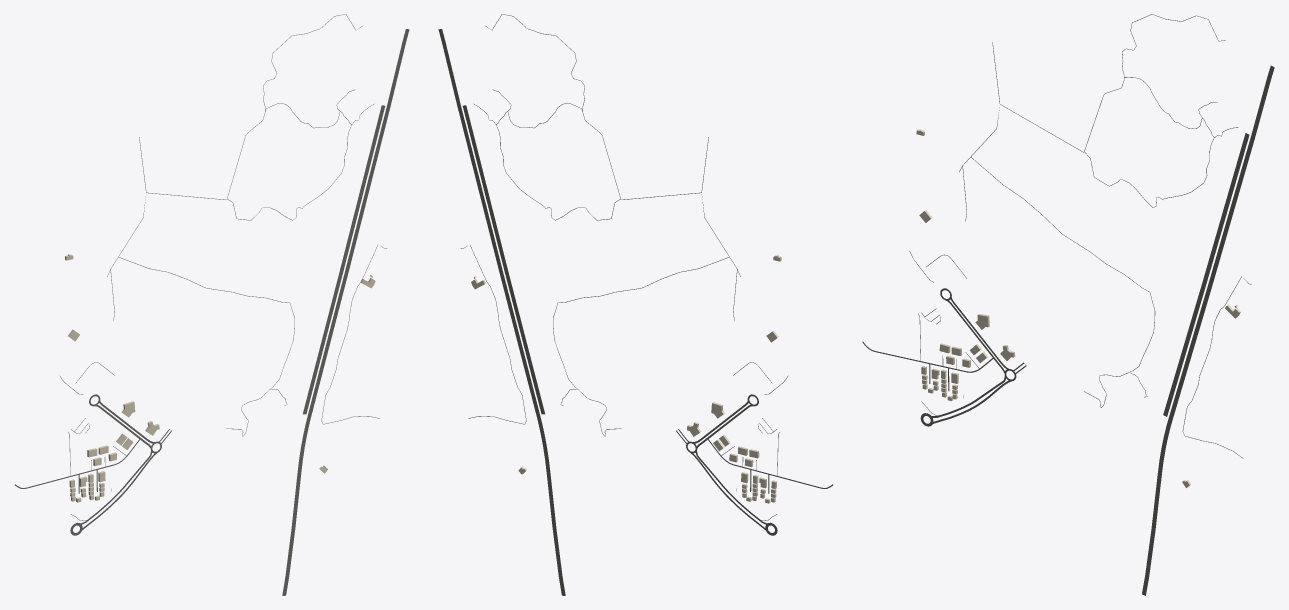
Rendered from historic-palestine-09_34_3514_3281.glb.
3 views of the same model, side by side, from view 1: azimuth 30°, elevation 25°; view 2: azimuth 150°, elevation 25°; view 3: azimuth 330°, elevation 25° (orthographic). The views are drawn at different scales.
Parts seen in each view (by area): view 1: Road 70, Road 70.001; view 2: Road 70, Road 70.001; view 3: Road 70, Road 70.001.
Boxes of the visible parts, x1,y1,x2,y2 form: Road 70: [282, 29, 409, 595]; Road 70.001: [303, 105, 385, 414]; Road 70: [438, 29, 565, 595]; Road 70.001: [462, 105, 544, 414]; Road 70: [1142, 65, 1274, 595]; Road 70.001: [1163, 133, 1249, 416].
Bounding box in the file's own units: 1215 × 1668 × 8.7.
